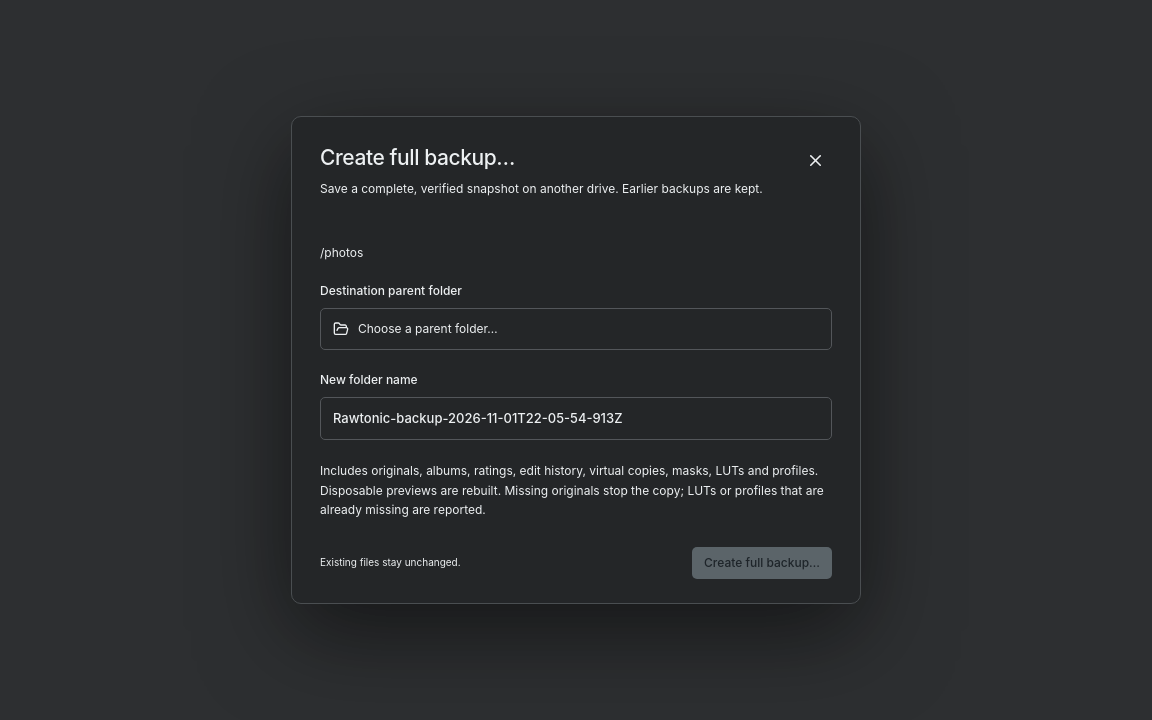
Test case: keeps a backend failure below a translated summary
Click the button named "Destination parent folder".
click(428, 328)  # box [320,308,832,350]
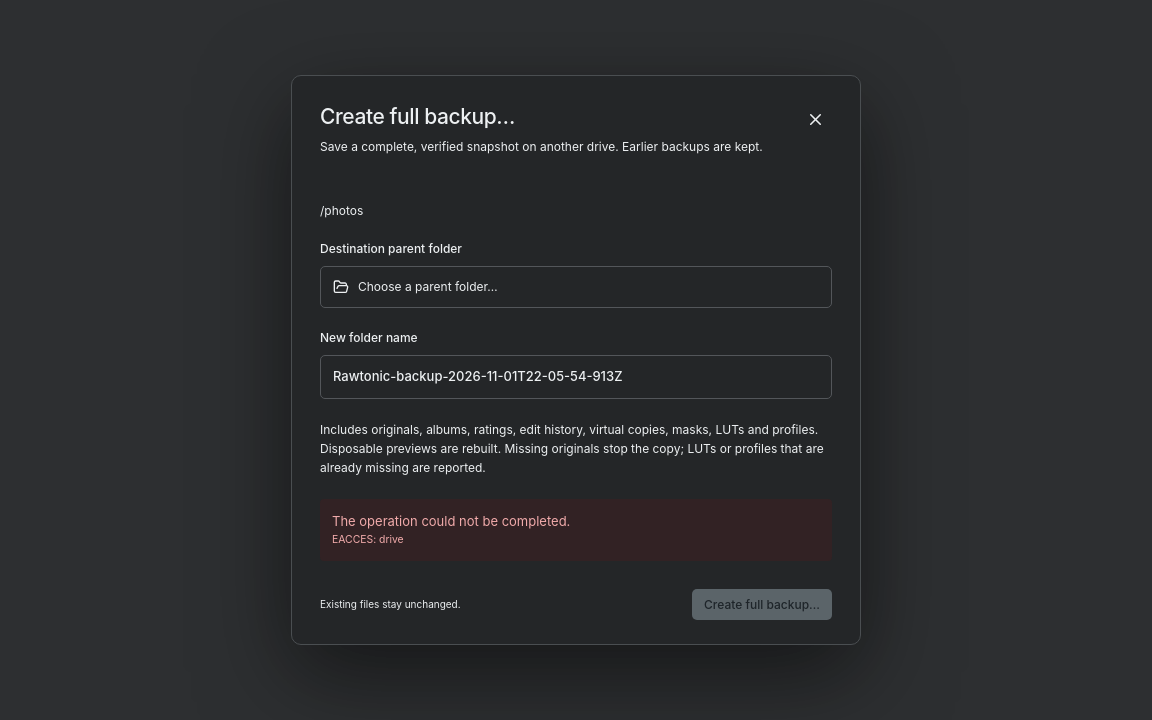
Now the message shows "The operation could not be completed.", box [332,513,570,529]
Now the text "EACCES: drive" is shown, box [332,533,404,546]
